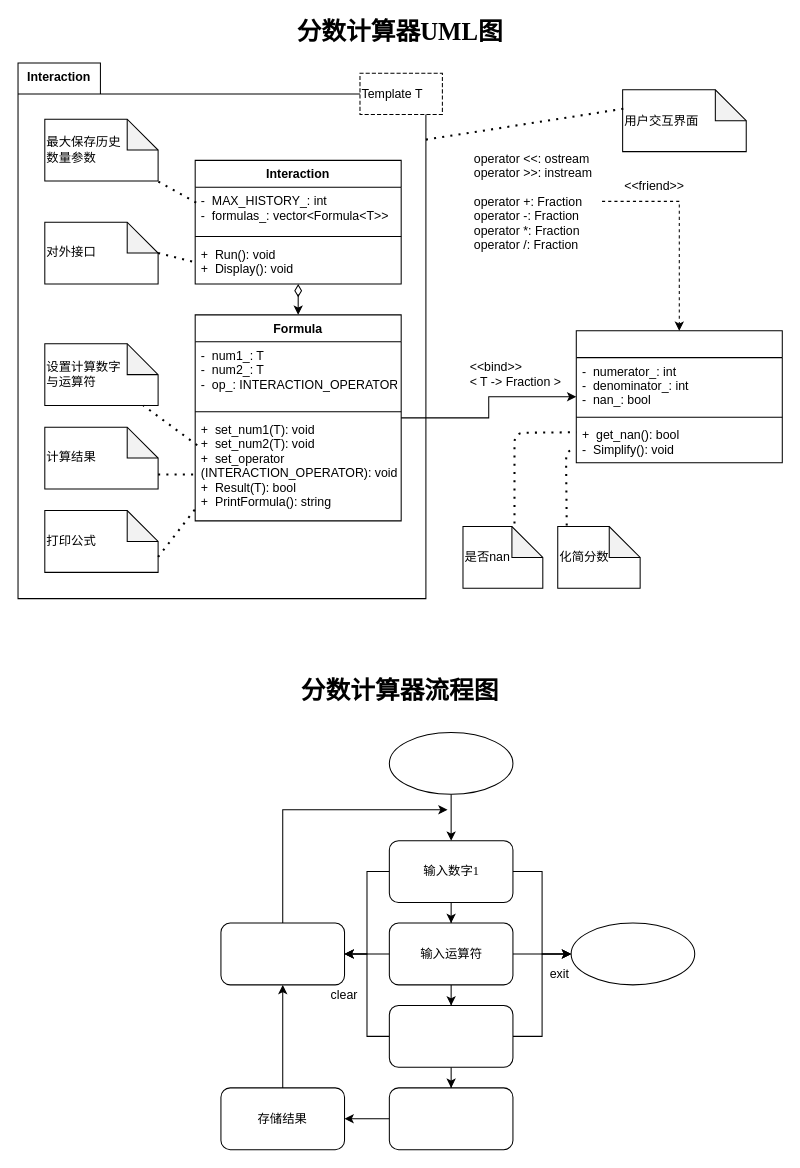
Some shapes in this 800 by 1168 pixel diagram are drawn without their labels. The shapes that lost their labels are listed below. From the top down, each one's box as (x1, y1, x2, y2) in pixels, then its label:
(575, 330, 782, 463): Fraction
(388, 732, 513, 794): 开始
(220, 922, 345, 985): 清空公式缓存
(570, 922, 695, 985): 退出
(388, 1004, 513, 1067): 输入数字二
(388, 1087, 513, 1150): 显示结果
